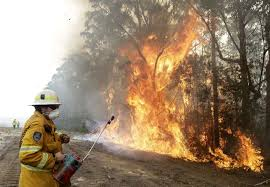fire: (121, 41, 205, 162), (223, 125, 264, 171)
smoke: (65, 16, 106, 114)
